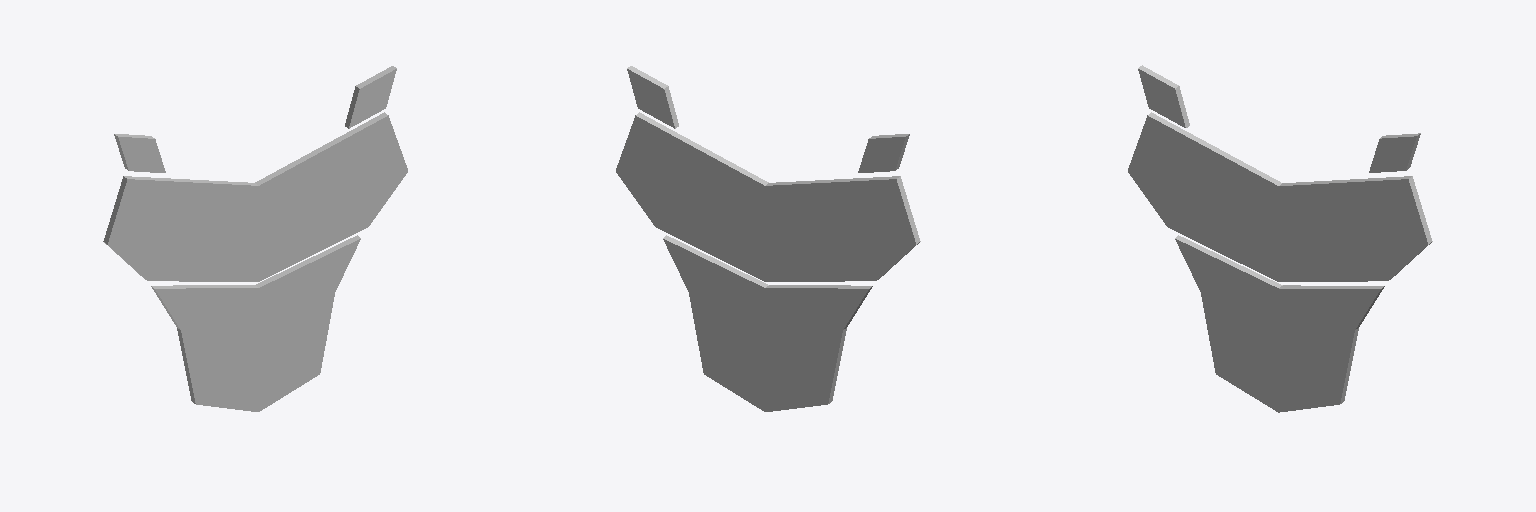
Rendered from ImageSign_01.obj.
3 renders of one model, left to right at view 1: azimuth 30°, elevation 25°; view 2: azimuth 150°, elevation 25°; view 3: azimuth 330°, elevation 25°, orthographic.
Parts seen in each view (by area): view 1: ImageSign_01; view 2: ImageSign_01; view 3: ImageSign_01.
Boxes of the visible parts, x1=… form: ImageSign_01: x1=103, y1=66, x2=407, y2=411; ImageSign_01: x1=616, y1=66, x2=920, y2=411; ImageSign_01: x1=1128, y1=65, x2=1432, y2=412.
Size of the model in its own units: 268 by 264 by 6.41.